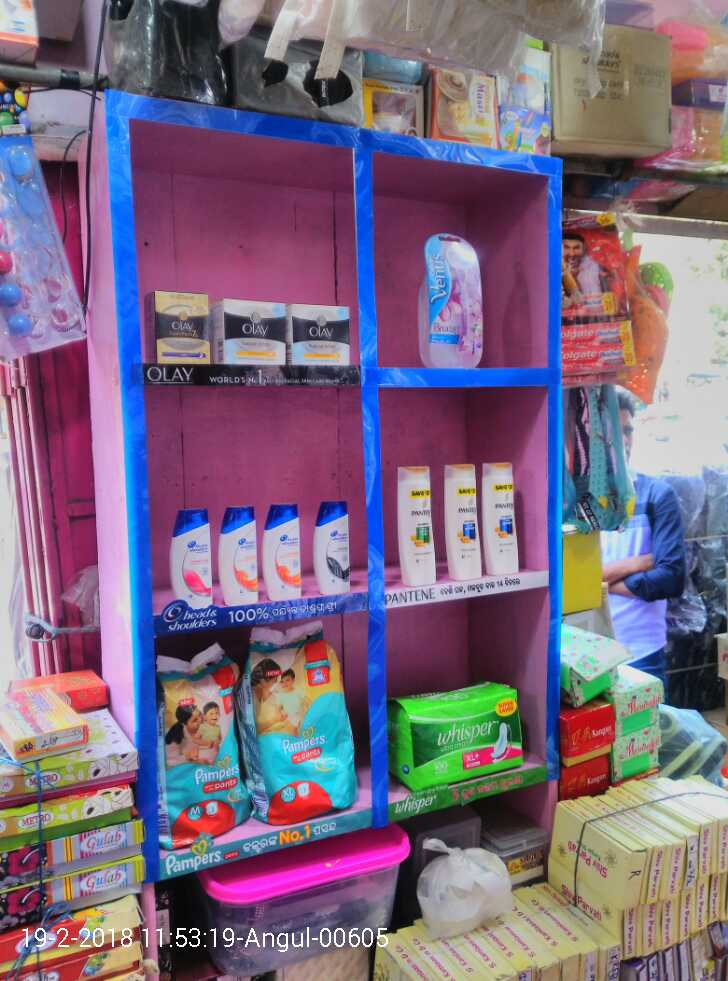venus: (414, 232, 489, 367)
